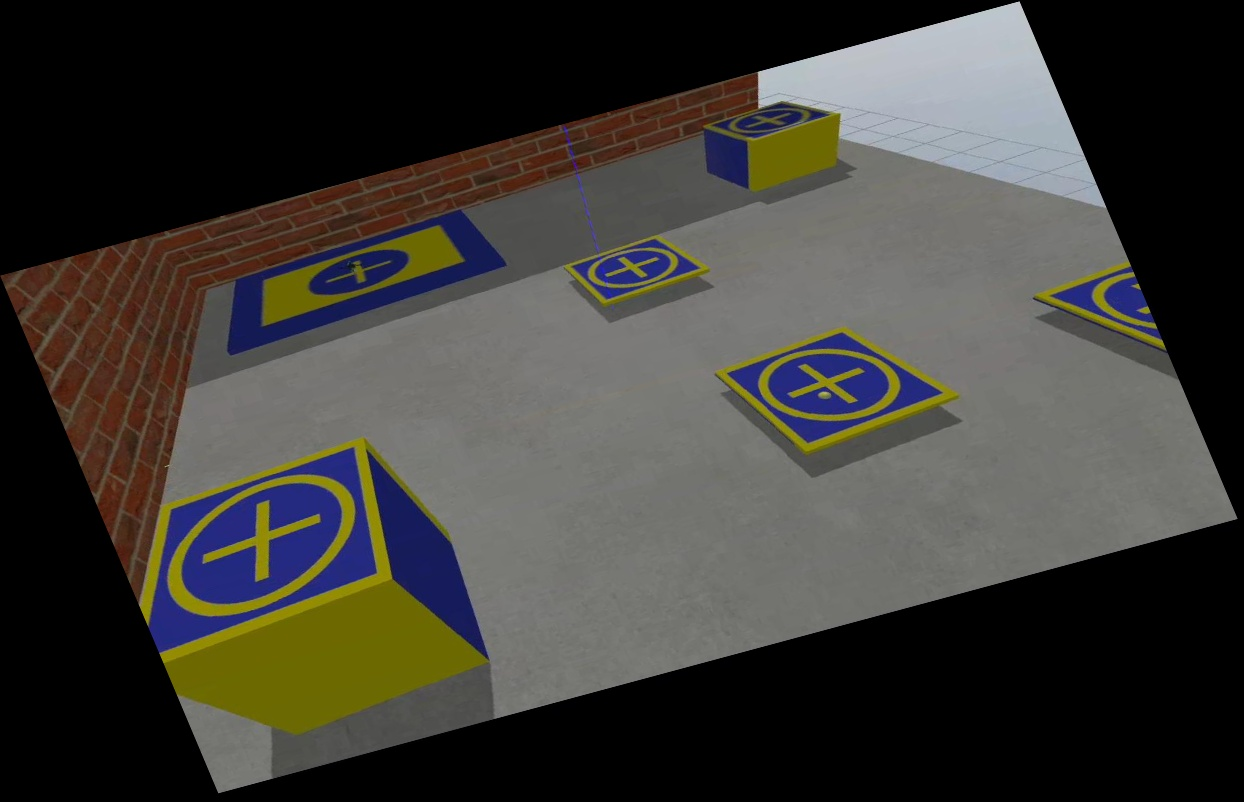large_base: (197, 201, 516, 355)
small_base: (98, 435, 435, 664), (705, 302, 970, 471), (1024, 258, 1171, 381), (560, 224, 714, 313), (701, 87, 844, 158)
